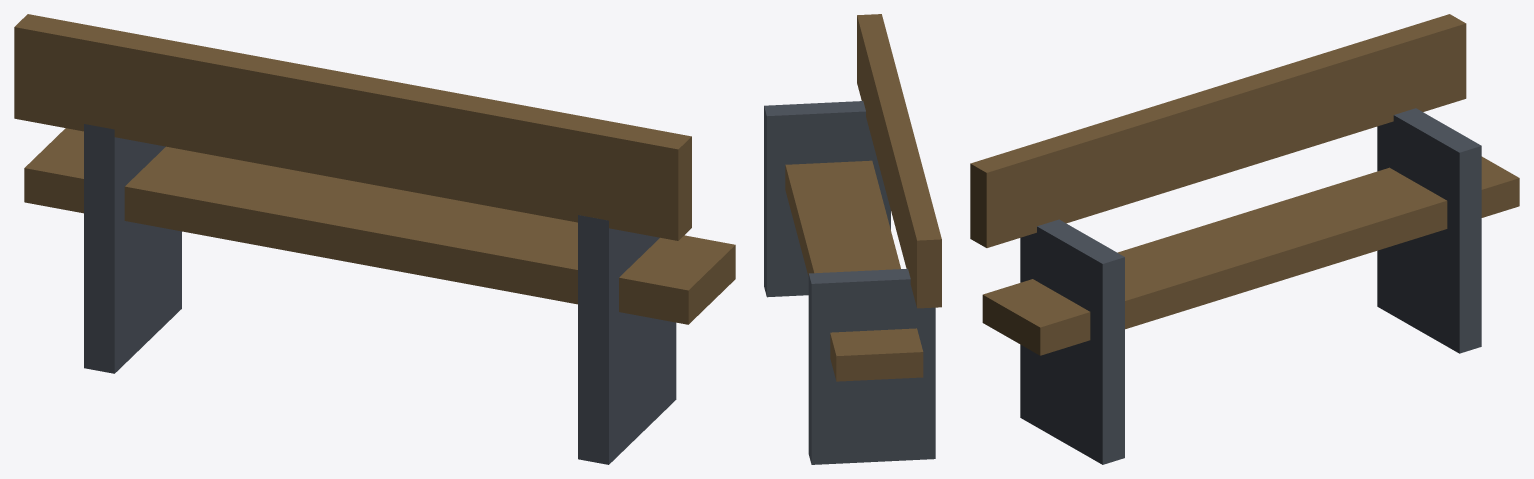
File: cell--360_540.glb
3 renders of one model, left to right at view 1: azimuth 30°, elevation 25°; view 2: azimuth 150°, elevation 25°; view 3: azimuth 270°, elevation 25°, orthographic. The views are drawn at different scales.
Parts seen in each view (by area): view 1: cell--360_540; view 2: cell--360_540; view 3: cell--360_540.
Boxes of the visible parts, x1=… form: cell--360_540: x1=14, y1=14, x2=735, y2=464; cell--360_540: x1=764, y1=14, x2=941, y2=464; cell--360_540: x1=970, y1=14, x2=1519, y2=464.
Size of the model in its own units: 0.6475 by 0.43 by 0.7929.
